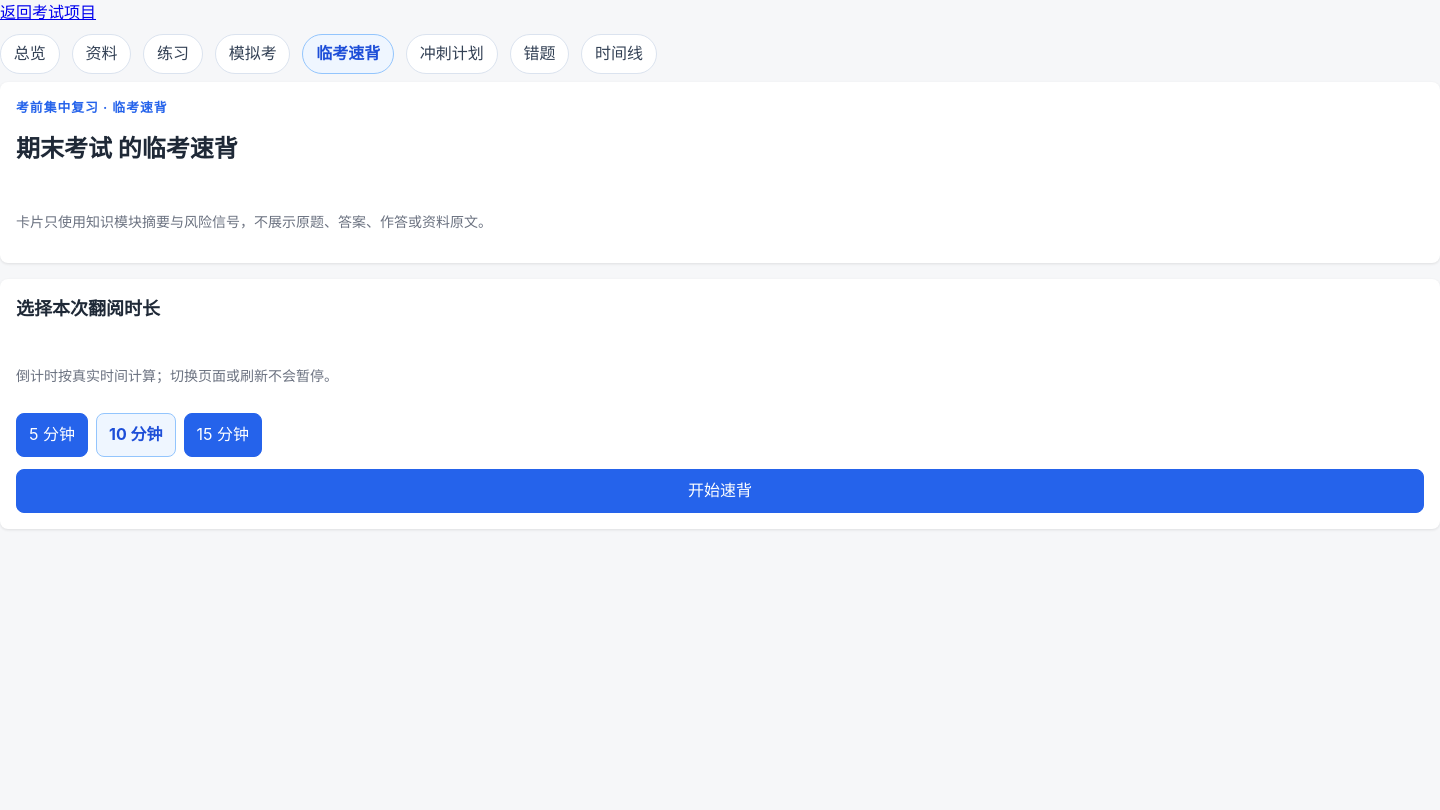
T04 临考速背页面与会话恢复 › locks previous/next after expiry while still allowing the current card to flip
Click the radio button labelled "5 分钟".
click(52, 435)  # box [16,413,88,457]
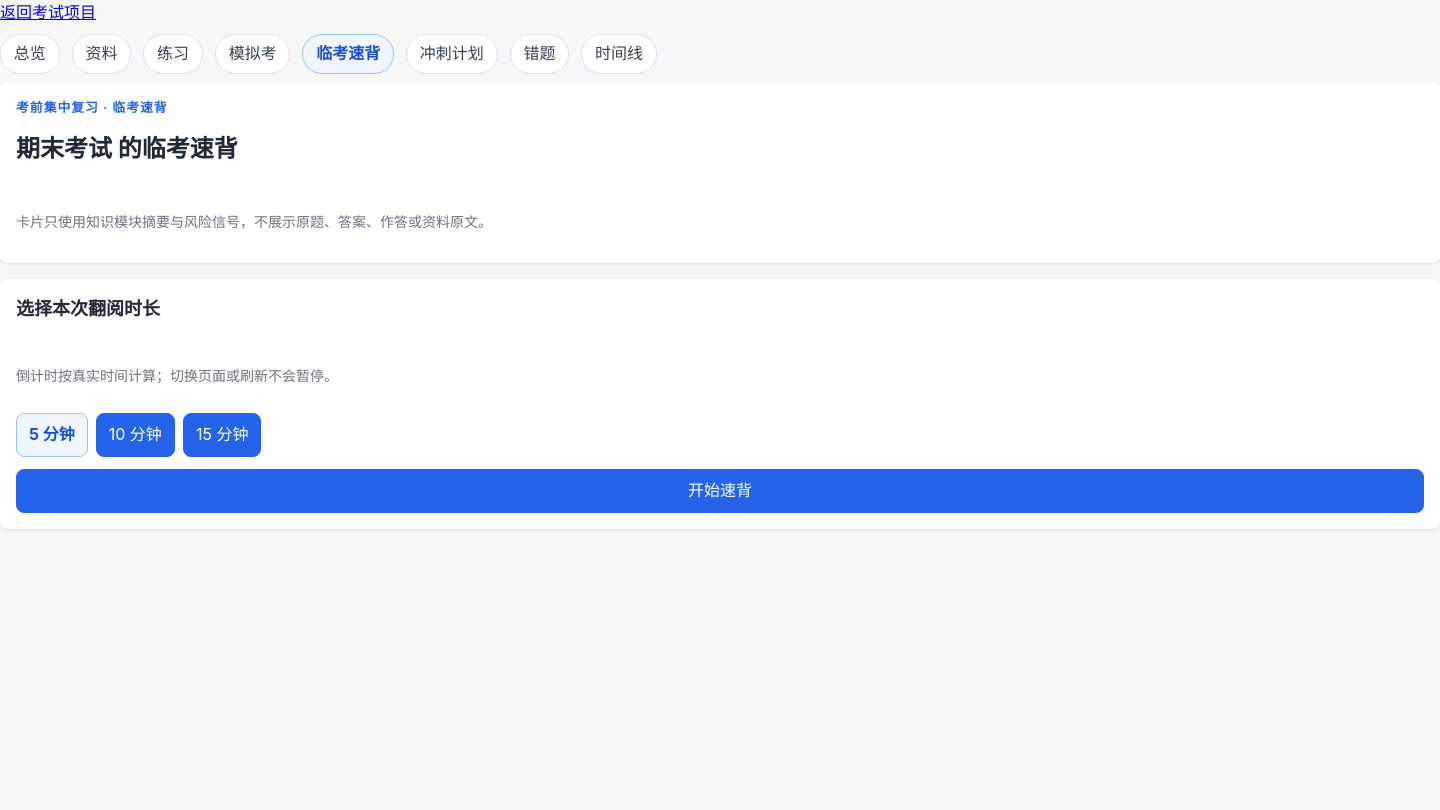
Click the button "开始速背".
click(720, 491)  # box [16,469,1424,513]
Wait 300500 ms
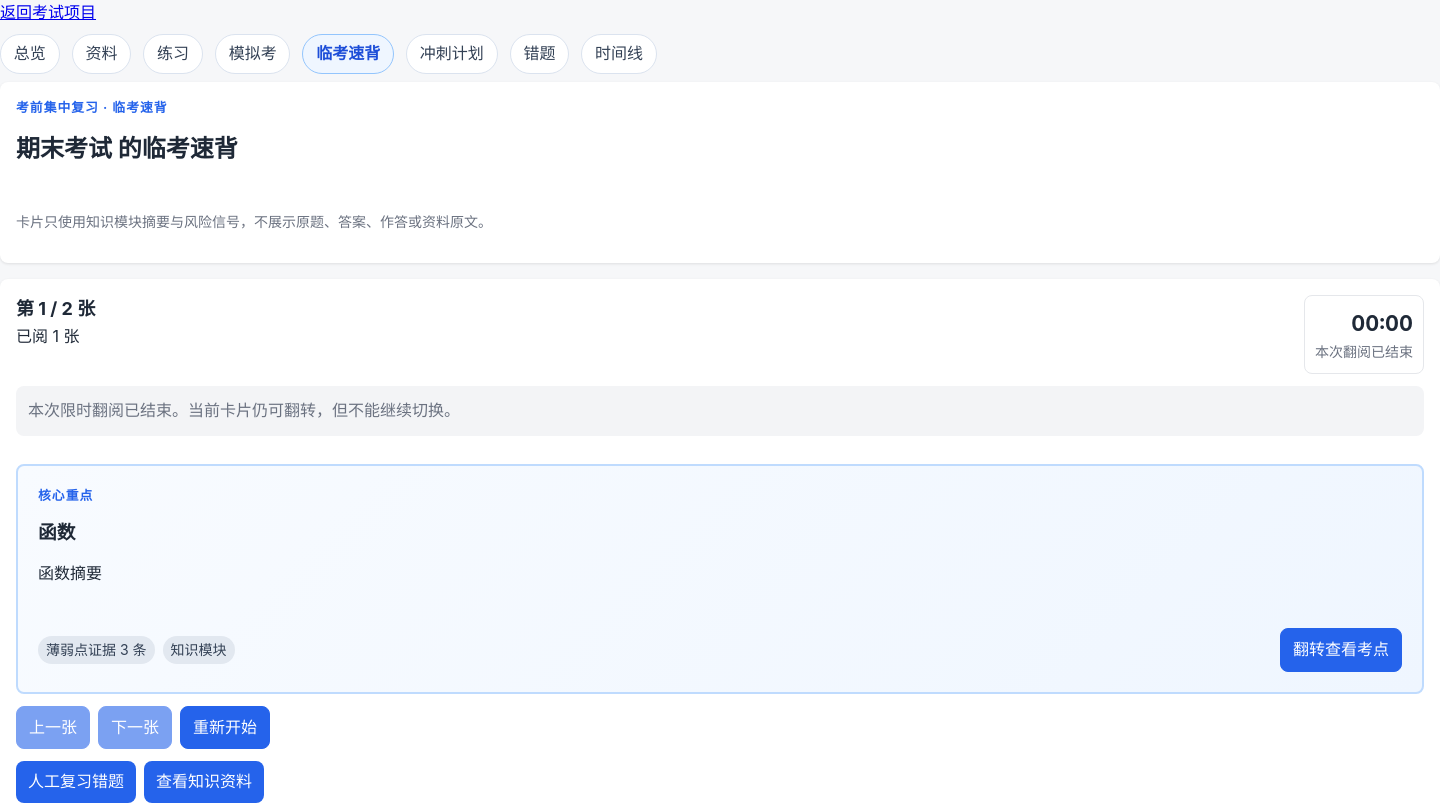
Expected: the text "本次限时翻阅已结束" is shown, [28,400,460,420]
Expected: the button "下一张" is disabled, [98,706,172,749]
Expected: the button "翻转查看考点" is enabled, [1280,628,1402,672]
